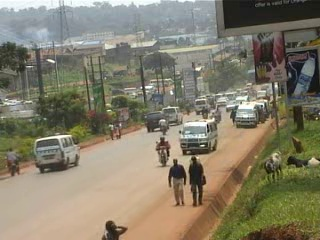Car: (143, 109, 172, 136), (224, 98, 239, 112), (215, 95, 228, 107)
Motorcycle: (152, 133, 173, 168), (4, 145, 23, 177), (156, 112, 171, 134), (213, 104, 223, 124), (199, 105, 210, 120), (209, 108, 216, 124)
